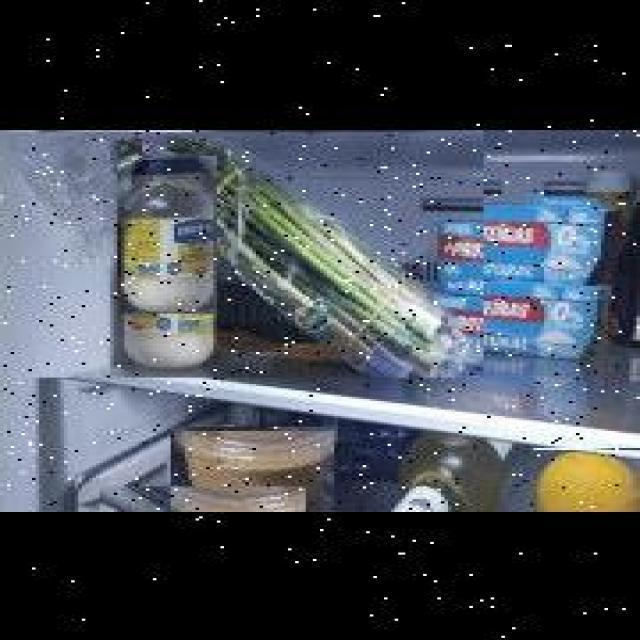asparagus: (7, 127, 484, 376)
humus: (170, 429, 334, 512)
lemon: (533, 448, 640, 512)
mayonaise: (119, 194, 219, 352)
pineapple: (100, 484, 306, 512)
